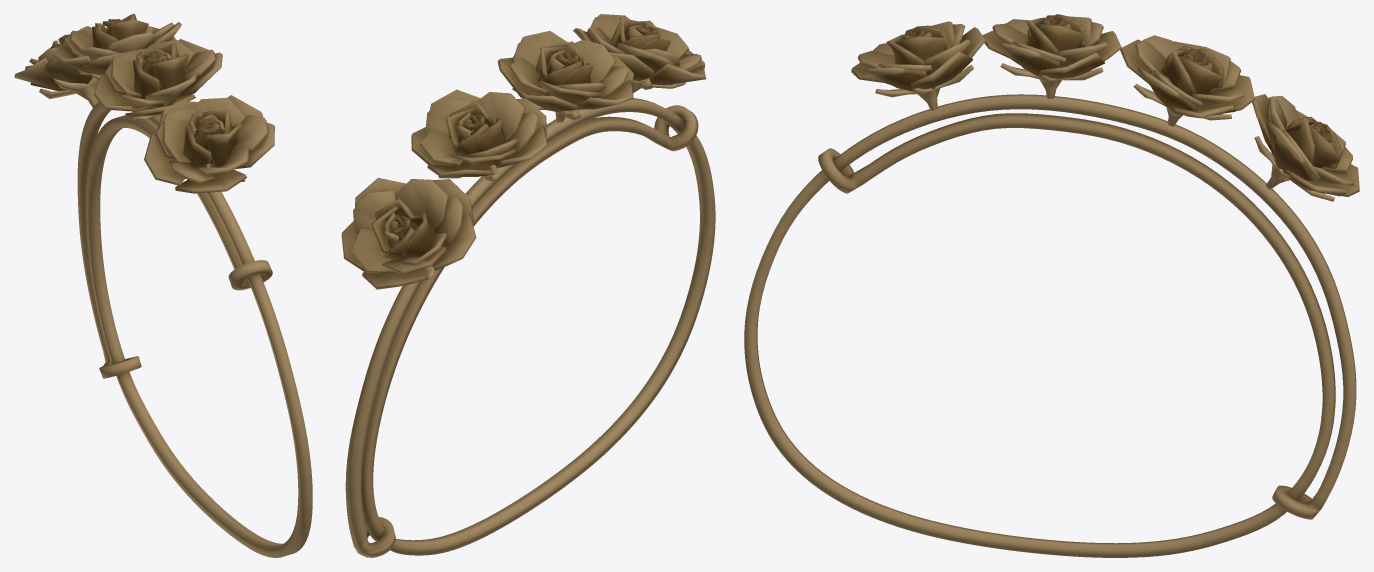
The model's file is rosebracelet.glb.
The picture shows the model from 3 angles, left to right: view 1: azimuth 30°, elevation 25°; view 2: azimuth 150°, elevation 25°; view 3: azimuth 270°, elevation 25°; orthographic projection. The views are drawn at different scales.
Visible parts, largest first — view 1: Bangle Bracelet; view 2: Bangle Bracelet; view 3: Bangle Bracelet.
Part boxes in pixels (bbox=[...]): Bangle Bracelet: bbox=[14, 14, 312, 557]; Bangle Bracelet: bbox=[341, 14, 715, 557]; Bangle Bracelet: bbox=[744, 14, 1359, 557].
Bounding box in the file's own units: 0.0249 × 0.0668 × 0.0731.
Materials: 1 (1 with a texture image).
